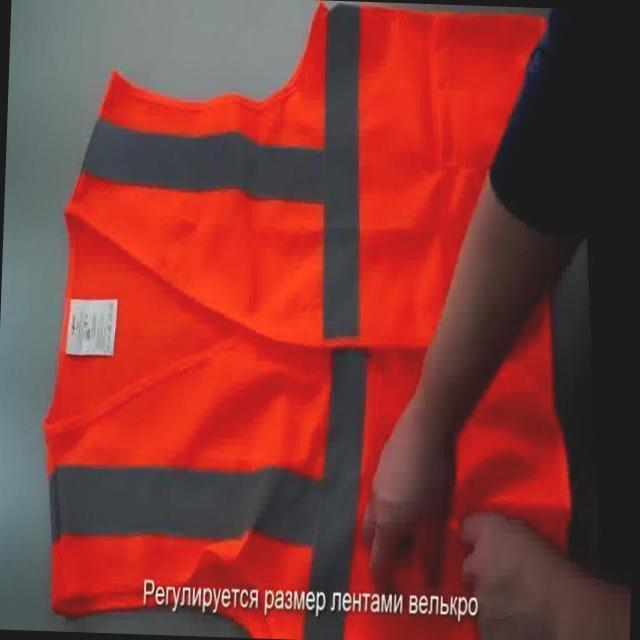vest: (32, 0, 589, 640)
